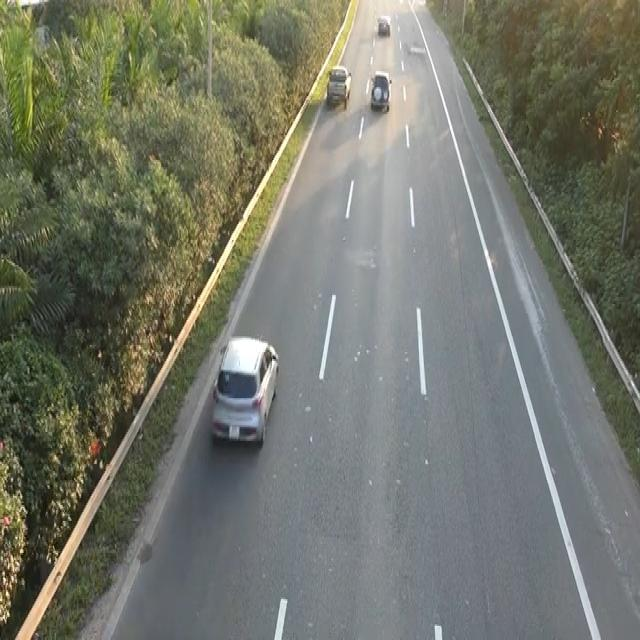car: (325, 63, 352, 109), (368, 68, 392, 112)
lorry: (208, 331, 282, 453)
